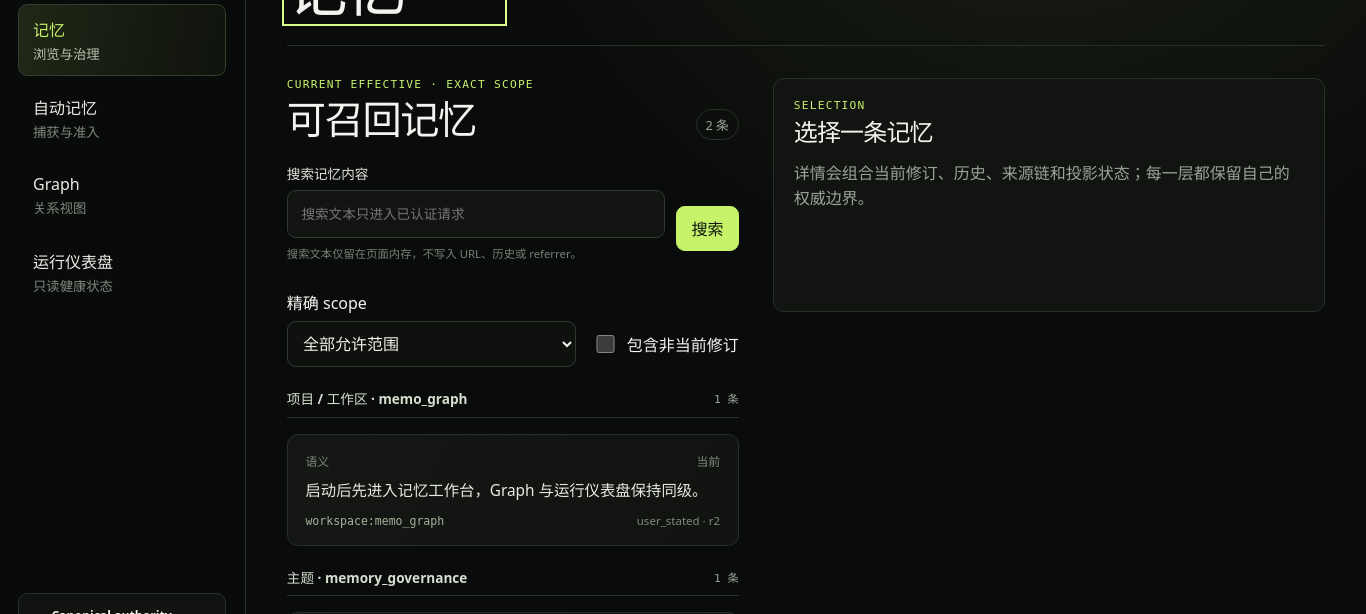
Test: sealed correction experience › previews a bounded diff, confirms explicitly, and shows the receipt
Expected: the text "启动后先进入记忆工作台，Graph 与运行仪表盘保持同级。" is shown, x1=305 y1=479 x2=720 y2=503
Click the button "启动后先进入记忆工作台，Graph 与运行仪表盘保持同级。". click: (513, 490)
box: x1=288 y1=435 x2=738 y2=545
(page scrolled)
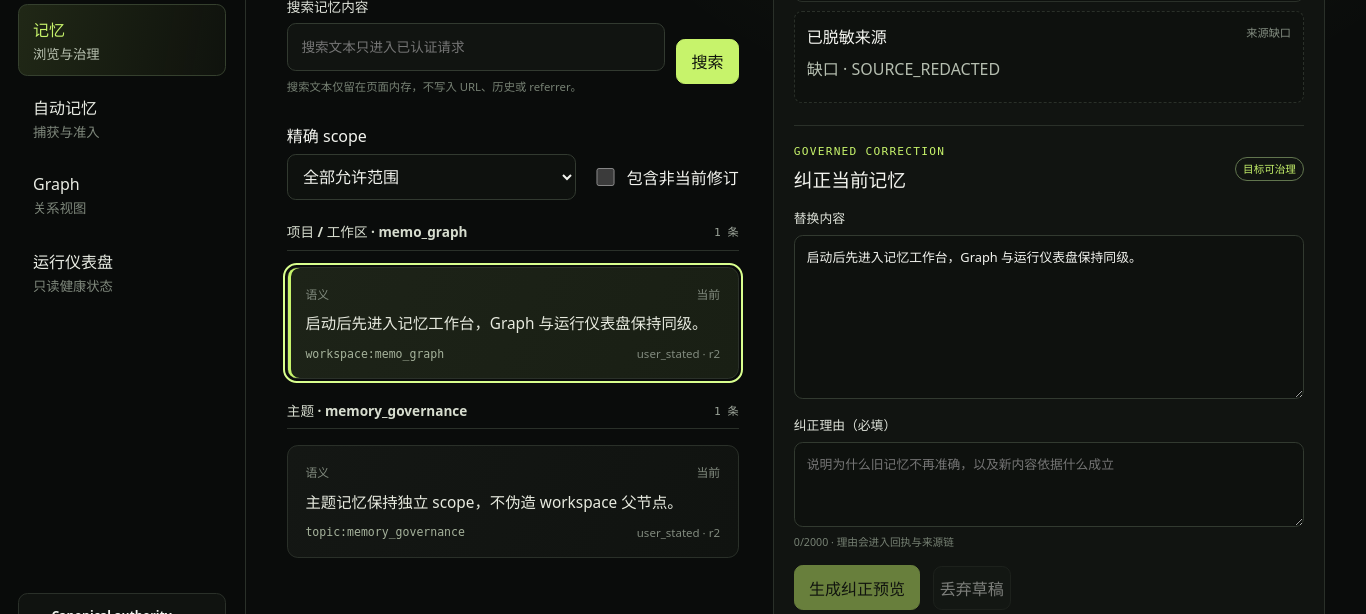
Result: the heading "纠正当前记忆" is shown at x1=794 y1=167 x2=906 y2=192
Replace the text in the text box labelled "替换内容" with "启动后直接进入可治理的记忆工作台。". click: (1049, 317)
box: x1=794 y1=235 x2=1304 y2=399
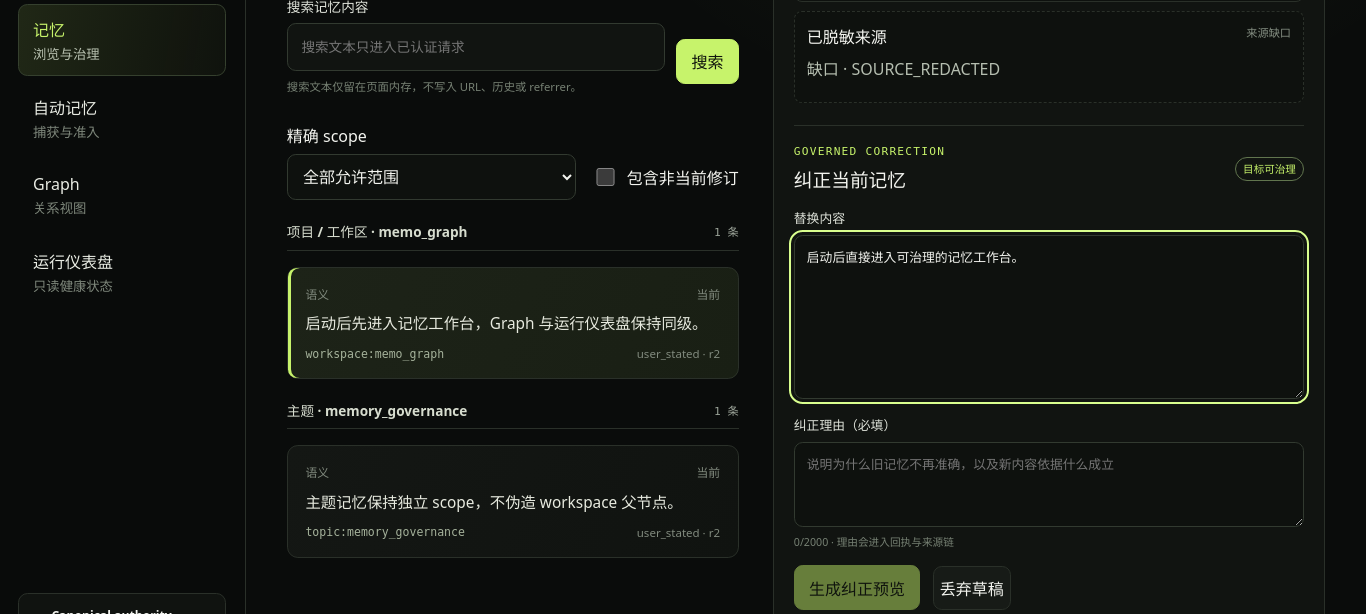
Type "用户明确纠正了启动入口描述" into the text box labelled "纠正理由（必填） 0/2000 · 理由会进入回执与来源链". click: (1049, 484)
box: x1=794 y1=442 x2=1304 y2=527
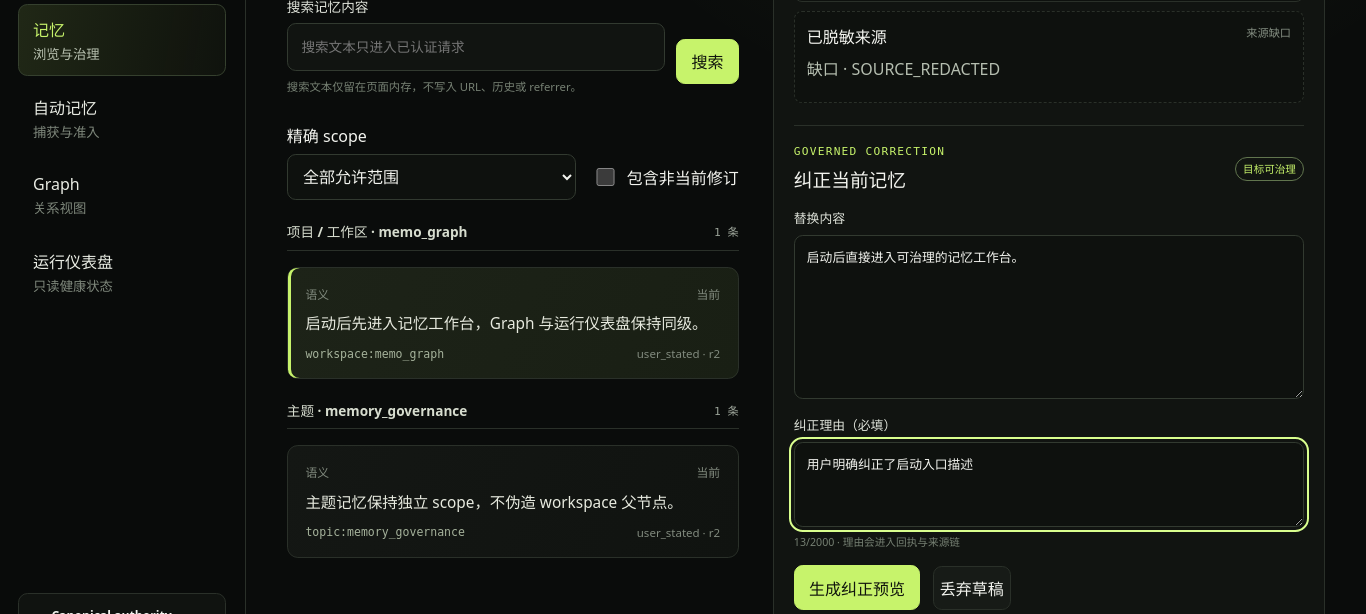
Click the button "生成纠正预览". click: (857, 588)
box: x1=794 y1=565 x2=920 y2=610
(page scrolled)
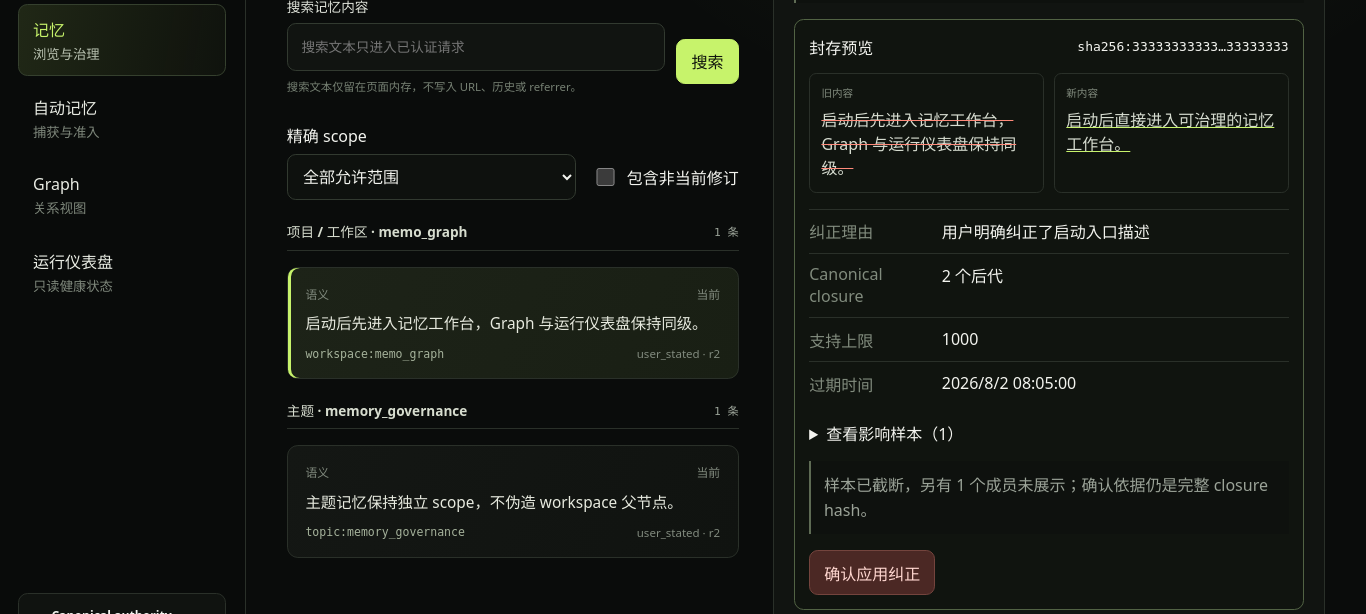
Result: the heading "封存预览" is shown at x1=809 y1=35 x2=873 y2=59
Result: the text "2 个后代" is shown at x1=942 y1=265 x2=1003 y2=287
Result: the text "样本已截断，另有 1 个成员未展示；确认依据仍是完整 closure hash。" is shown at x1=809 y1=461 x2=1289 y2=534
Click the button "确认应用纠正". click: (872, 573)
box: x1=809 y1=550 x2=935 y2=595
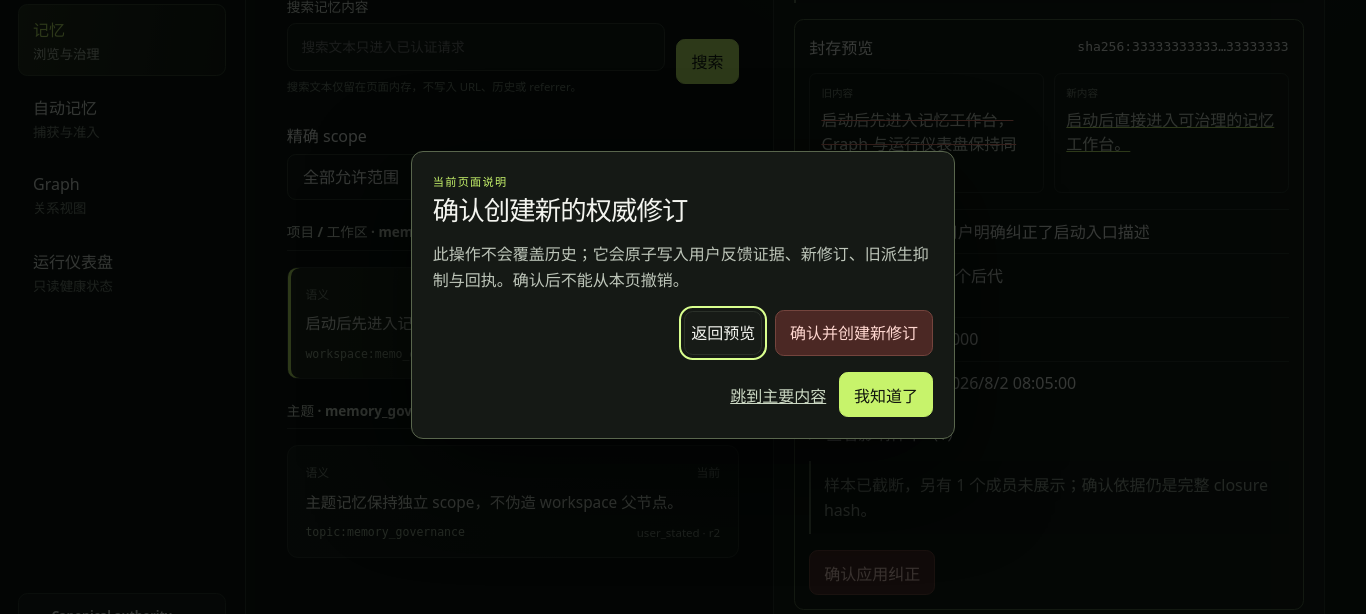
Result: the dialog "确认创建新的权威修订" is shown at x1=411 y1=151 x2=955 y2=439
Click the button "确认并创建新修订". click: (854, 333)
box: x1=775 y1=310 x2=933 y2=356
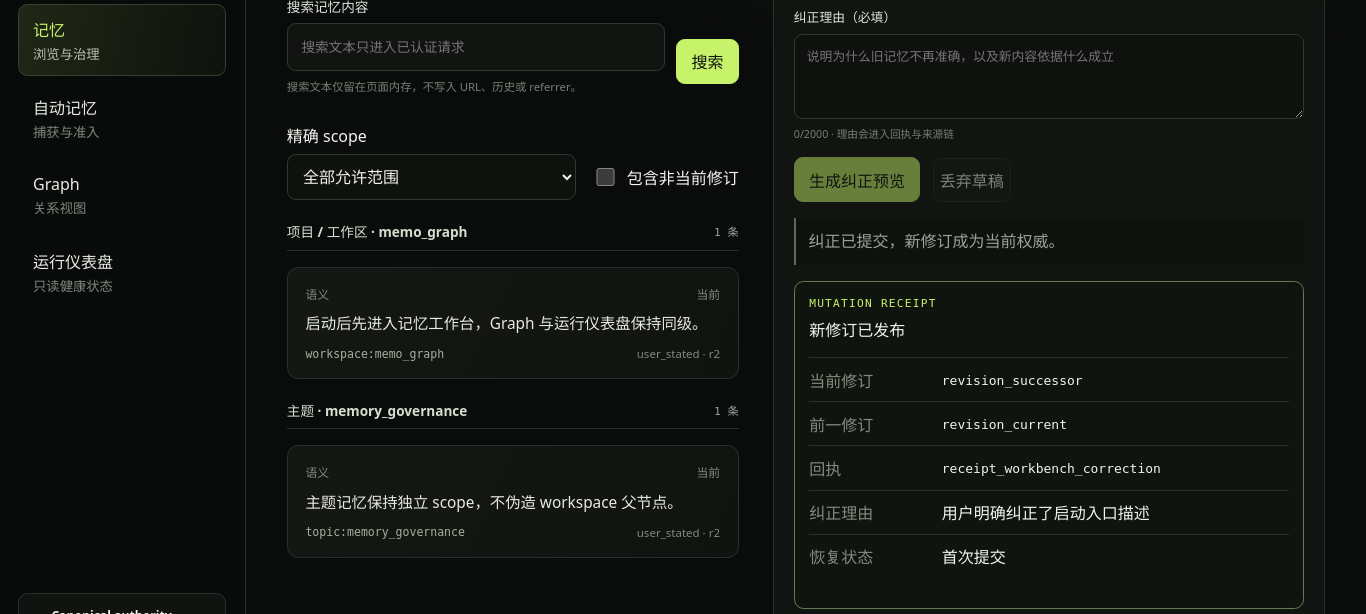
Result: the text "用户明确纠正了启动入口描述" is shown at x1=942 y1=502 x2=1150 y2=524
Result: the heading "新修订已发布" is shown at x1=809 y1=319 x2=905 y2=341
Result: the text "receipt_workbench_correction" is shown at x1=942 y1=461 x2=1161 y2=476
